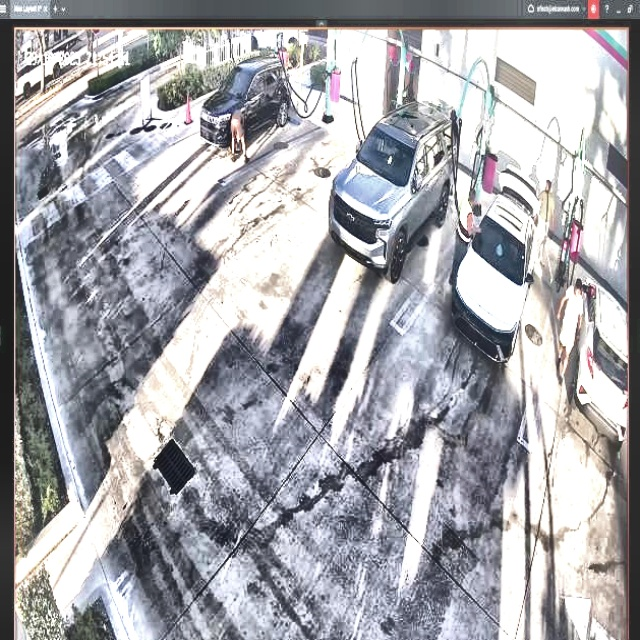Car: (329, 99, 457, 278), (453, 176, 538, 364), (200, 62, 290, 146)
